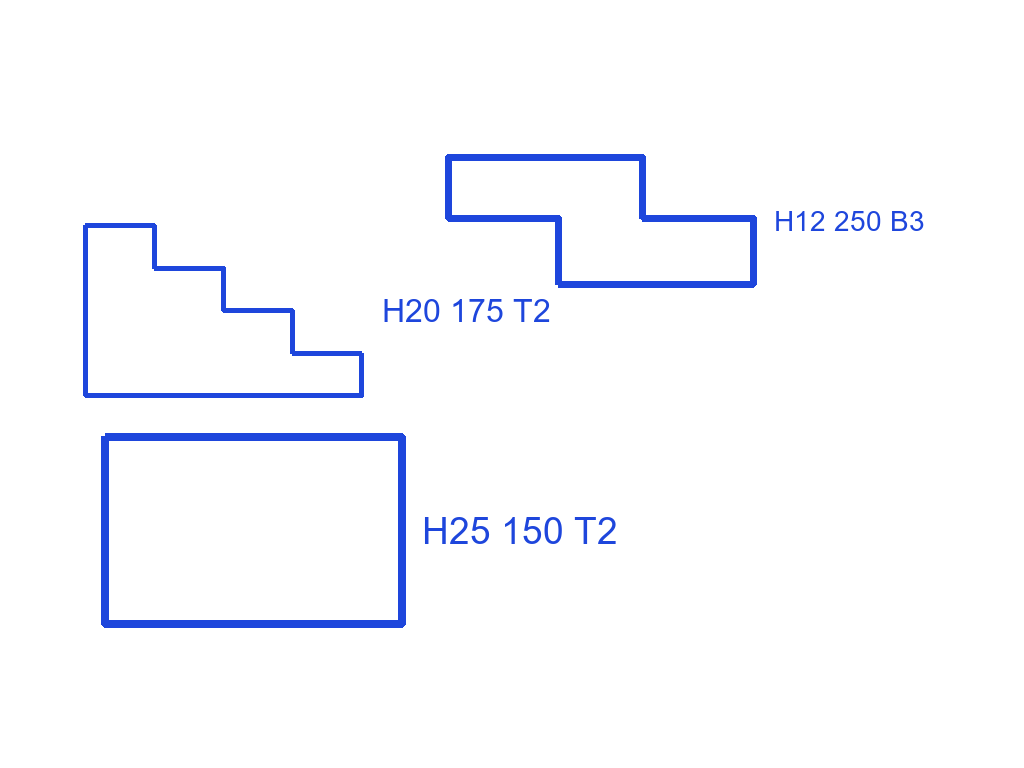shape: (99, 431, 408, 630), (81, 221, 366, 400), (443, 152, 759, 290)
text: (420, 515, 620, 546), (380, 297, 553, 324), (772, 209, 927, 233)
